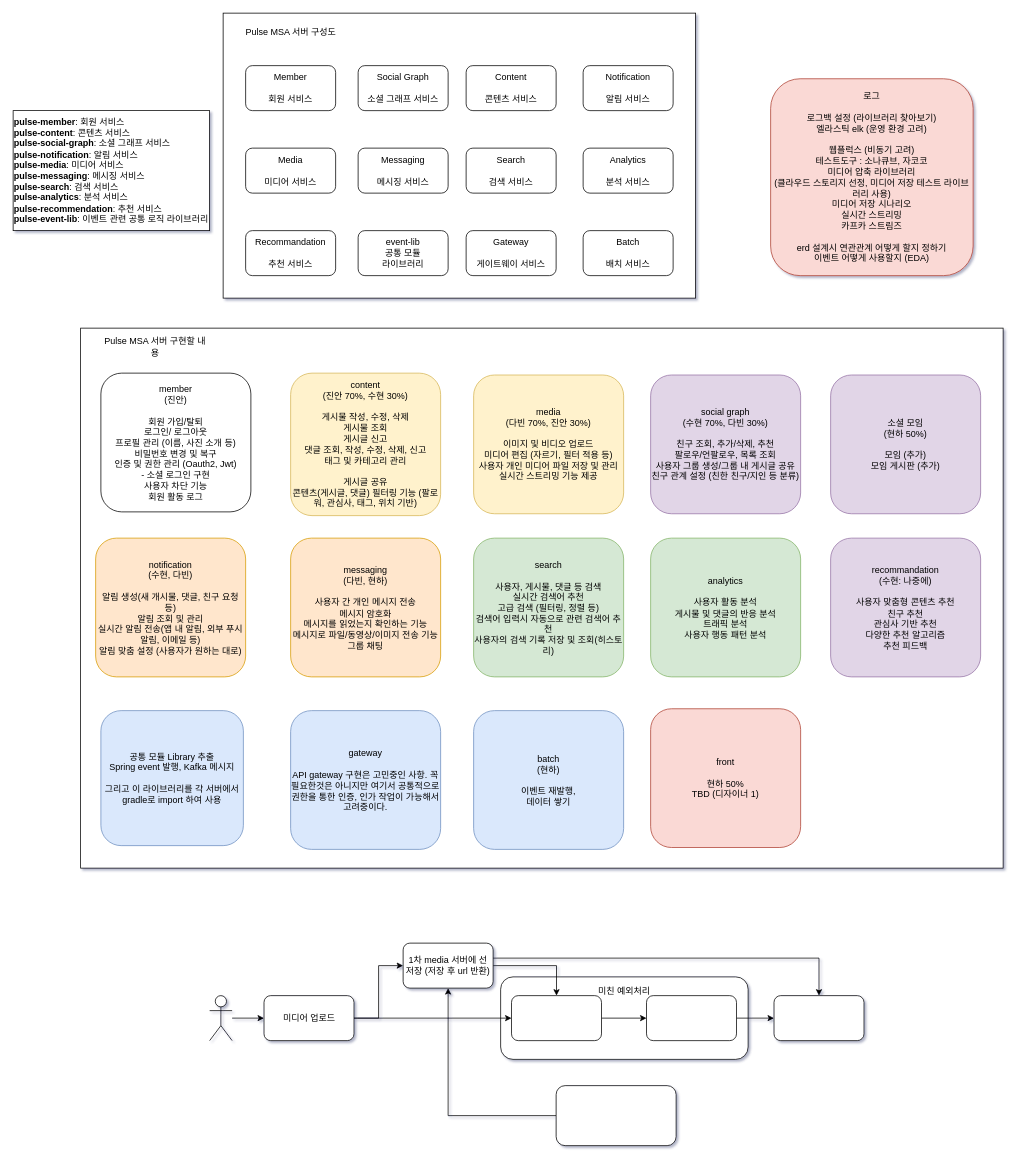
The diagram is 1021 pixels wide and 1163 high, and some of its shapes have lost their labels. Each missing label, with the centre of its shape:
Actor: the point at 220,1018
사용자: the point at 818,1018
사용자가 게시글 다 작성하고 "저장" 버튼 누름: the point at 556,1018
이벤트 발행 배치 (내부에 설계): the point at 615,1115
저장하는 순간 콘텐츠 서버의 file 테이블에 url 저장: the point at 691,1018
